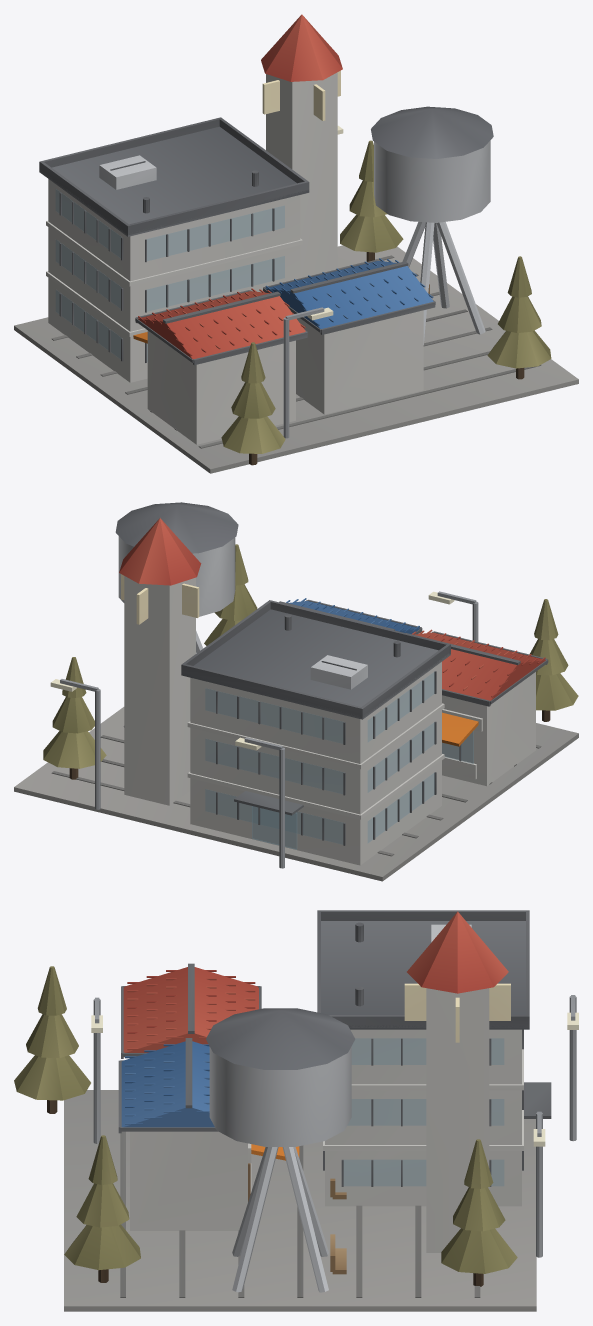
Rendered from Civic_P2.fbx.
3 views of the same model, one above another, from view 1: azimuth 30°, elevation 25°; view 2: azimuth 150°, elevation 25°; view 3: azimuth 270°, elevation 25° (orthographic). The views are drawn at different scales.
Parts seen in each view (by area): view 1: Civic.Hall, Civic.Plaza, Civic.Shop1, Civic.Shop0, Civic.WaterTower, Civic.Tower, Civic.Tree2, Civic.Tree1, Civic.Tree0, Civic.Paving, Civic.Lamp0; view 2: Civic.Hall, Civic.Tower, Civic.Plaza, Civic.Shop0, Civic.WaterTower, Civic.Tree0, Civic.Tree2, Civic.Tree1, Civic.Shop1, Civic.Lamp1, Civic.Lamp2, Civic.Paving (+1 smaller); view 3: Civic.Plaza, Civic.Hall, Civic.WaterTower, Civic.Tower, Civic.Shop1, Civic.Shop0, Civic.Tree2, Civic.Tree0, Civic.Tree1, Civic.Paving, Civic.Lamp0, Civic.Lamp2 (+2 smaller).
Part boxes in pixels (left/top/right/bottom): Civic.Hall: left=39, top=117, right=309, bottom=382; Civic.Plaza: left=14, top=245, right=578, bottom=473; Civic.Shop1: left=263, top=258, right=435, bottom=414; Civic.Shop0: left=133, top=288, right=307, bottom=444; Civic.WaterTower: left=371, top=106, right=493, bottom=344; Civic.Tower: left=261, top=14, right=342, bottom=278; Civic.Tree2: left=221, top=342, right=285, bottom=465; Civic.Tree1: left=487, top=256, right=551, bottom=379; Civic.Tree0: left=340, top=140, right=403, bottom=261; Civic.Paving: left=51, top=255, right=541, bottom=448; Civic.Lamp0: left=283, top=307, right=333, bottom=438; Civic.Hall: left=181, top=600, right=450, bottom=865; Civic.Tower: left=119, top=518, right=201, bottom=805; Civic.Plaza: left=14, top=707, right=578, bottom=881; Civic.Shop0: left=406, top=629, right=548, bottom=786; Civic.WaterTower: left=115, top=502, right=238, bottom=727; Civic.Tree0: left=43, top=657, right=106, bottom=779; Civic.Tree2: left=530, top=599, right=578, bottom=721; Civic.Tree1: left=204, top=544, right=257, bottom=645; Civic.Shop1: left=279, top=598, right=422, bottom=634; Civic.Lamp1: left=50, top=679, right=100, bottom=809; Civic.Lamp2: left=235, top=737, right=284, bottom=868; Civic.Paving: left=51, top=735, right=541, bottom=856; Civic.Plaza: left=64, top=1090, right=536, bottom=1311; Civic.Hall: left=317, top=910, right=551, bottom=1206; Civic.WaterTower: left=206, top=1008, right=355, bottom=1292; Civic.Tower: left=404, top=911, right=510, bottom=1252; Civic.Shop1: left=118, top=1038, right=299, bottom=1230; Civic.Shop0: left=121, top=963, right=261, bottom=1058; Civic.Tree2: left=14, top=966, right=90, bottom=1113; Civic.Tree0: left=441, top=1139, right=517, bottom=1286; Civic.Tree1: left=64, top=1135, right=140, bottom=1282; Civic.Paving: left=120, top=1131, right=480, bottom=1297; Civic.Lamp0: left=91, top=997, right=102, bottom=1143; Civic.Lamp2: left=567, top=995, right=578, bottom=1141.
Size of the model in its own units: 2600 by 1871 by 2870.
